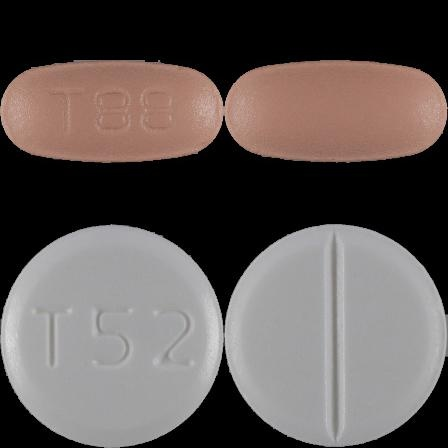51672-4018: (0, 0, 224, 224)
